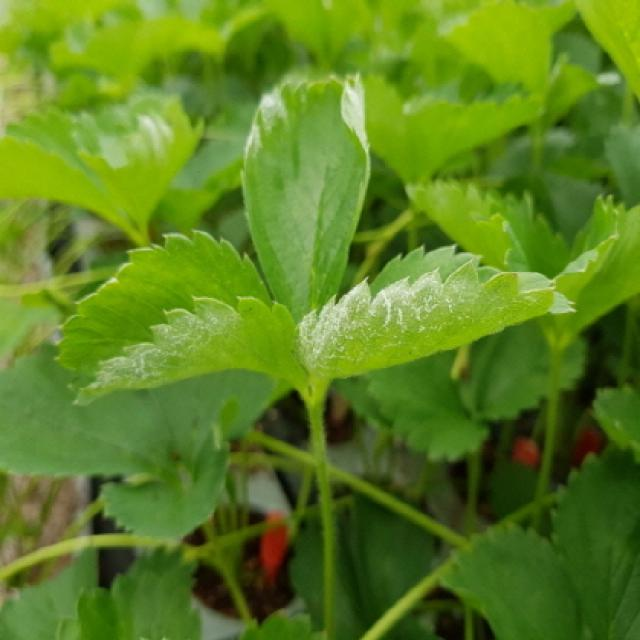Powdery Mildew Leaf: (56, 229, 308, 407), (301, 242, 577, 380), (242, 71, 374, 319)
